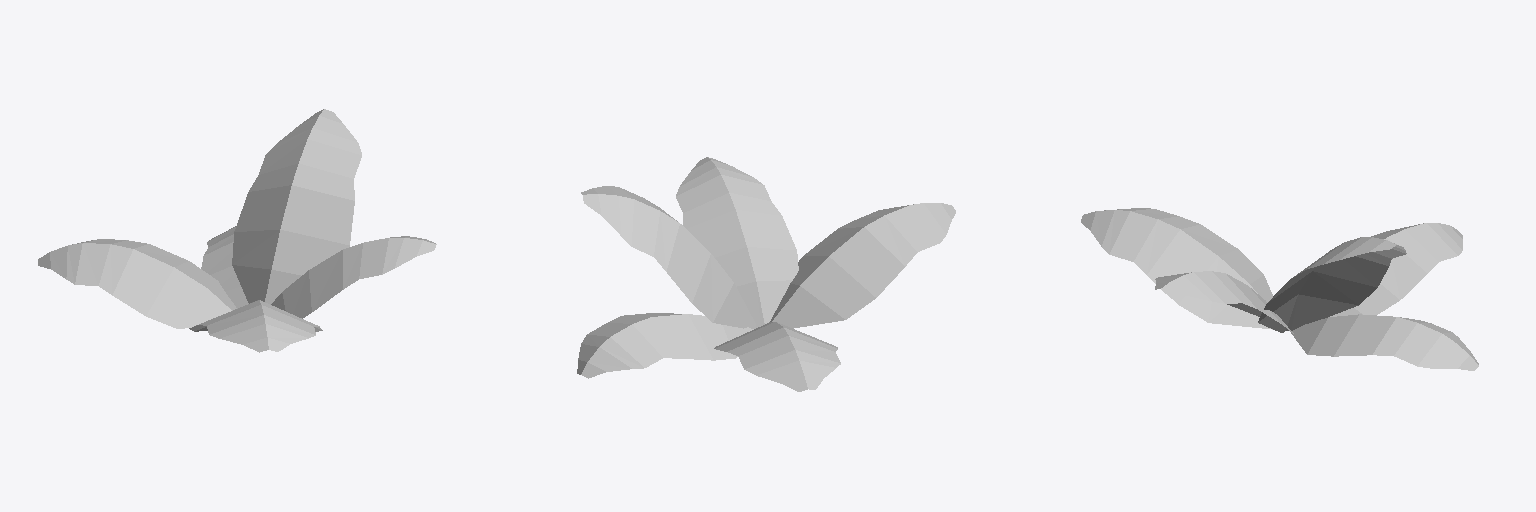
The model's file is fern 02.obj.
The picture shows the model from 3 angles: view 1: azimuth 30°, elevation 25°; view 2: azimuth 150°, elevation 25°; view 3: azimuth 270°, elevation 25°; orthographic projection.
Visible parts, largest first — view 1: tree; view 2: tree; view 3: tree.
Part boxes in pixels (left/top/right/bottom): tree: left=38, top=109, right=436, bottom=352; tree: left=577, top=157, right=955, bottom=391; tree: left=1081, top=208, right=1478, bottom=370.
Size of the model in its own units: 99.15 by 52.25 by 129.